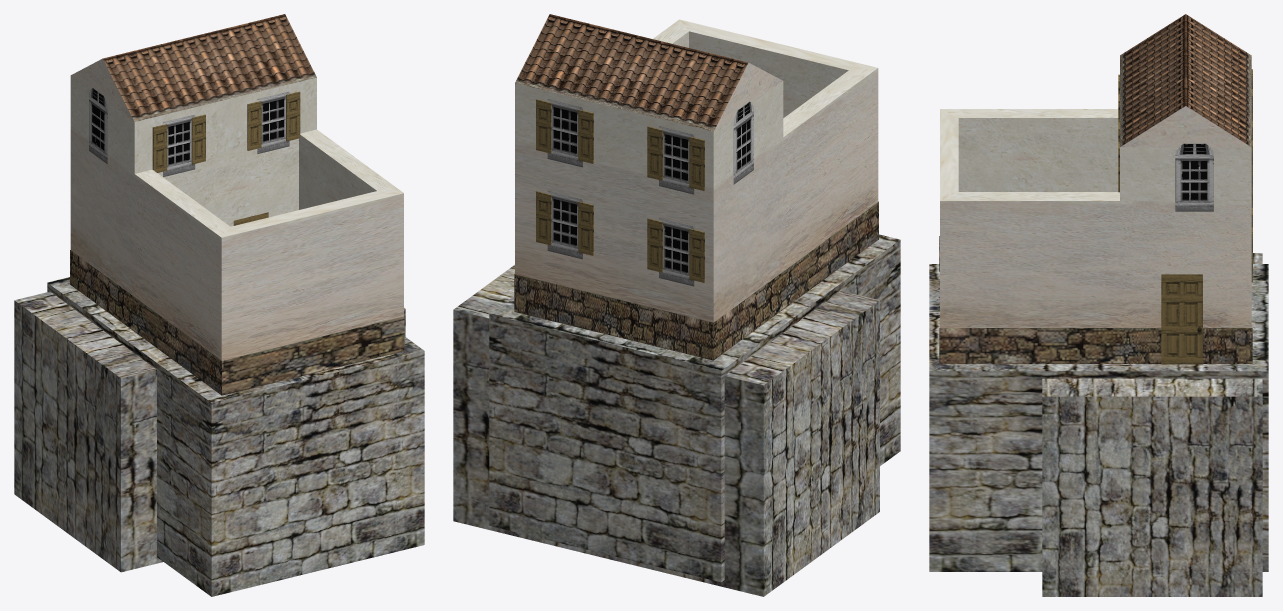
File: iber_house_a.dae
3 views of the same model, side by side, from view 1: azimuth 30°, elevation 25°; view 2: azimuth 150°, elevation 25°; view 3: azimuth 270°, elevation 25° (orthographic). The views are drawn at different scales.
Parts seen in each view (by area): view 1: IberHouse1; view 2: IberHouse1; view 3: IberHouse1.
Part boxes in pixels (left/top/right/bottom): IberHouse1: left=14, top=14, right=424, bottom=596; IberHouse1: left=453, top=14, right=900, bottom=596; IberHouse1: left=929, top=14, right=1268, bottom=596.
Bounding box in the file's own units: 16.05 × 16.05 × 24.27.
